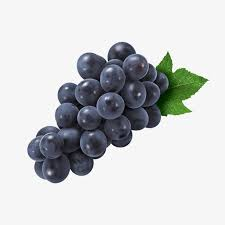Black grapes: (12, 42, 204, 185)
